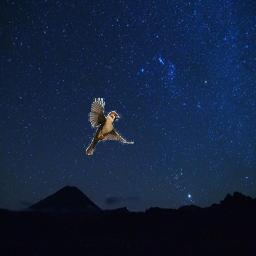Sparrow: (86, 97, 134, 155)
